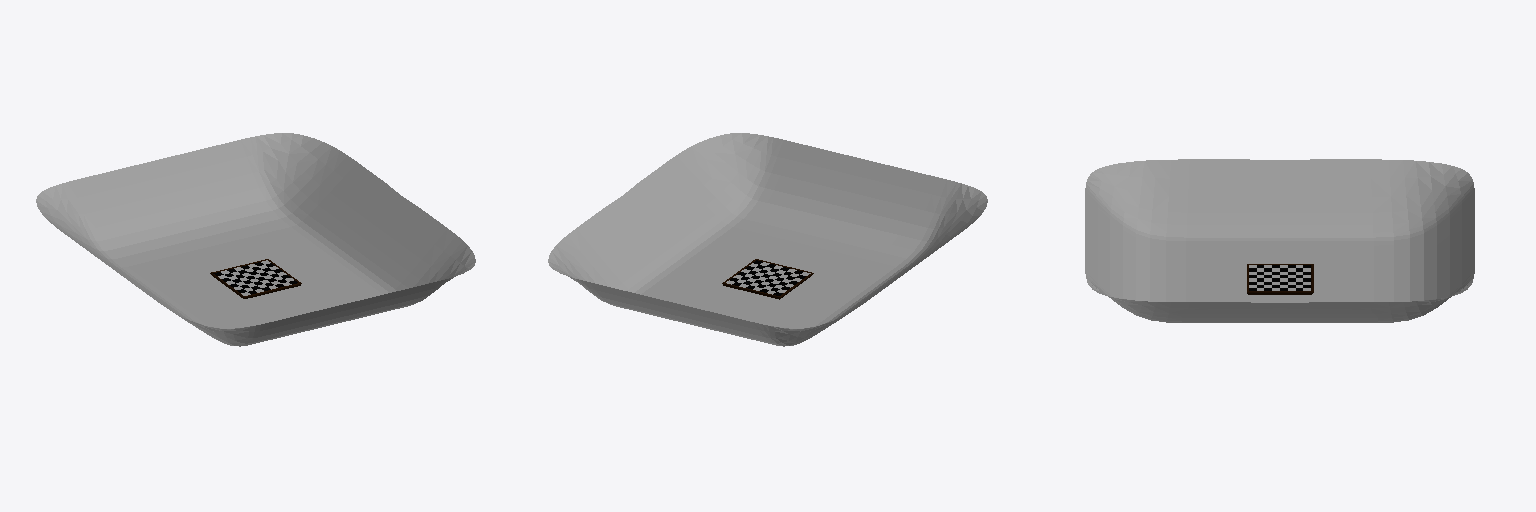
The model's file is chessboard1.obj.
The picture shows the model from 3 angles: view 1: azimuth 30°, elevation 25°; view 2: azimuth 150°, elevation 25°; view 3: azimuth 270°, elevation 25°; orthographic projection.
Parts seen in each view (by area): view 1: Plane, Chessboard; view 2: Plane, Chessboard; view 3: Plane, Chessboard.
Part boxes in pixels (left/top/right/bottom): Plane: left=36, top=133, right=475, bottom=346; Chessboard: left=210, top=259, right=301, bottom=298; Plane: left=548, top=133, right=987, bottom=346; Chessboard: left=722, top=259, right=813, bottom=299; Plane: left=1085, top=159, right=1474, bottom=322; Chessboard: left=1247, top=264, right=1313, bottom=294.
Bounding box in the file's own units: 78.39 × 12.87 × 90.13.